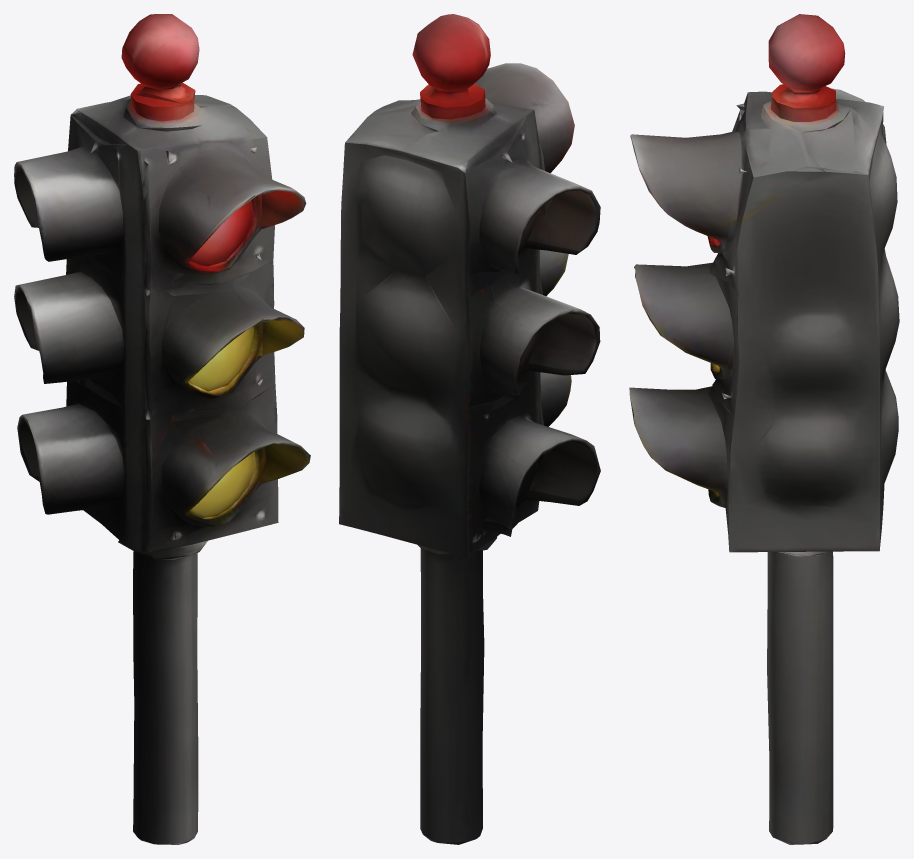
File: trafficLight.glb
3 renders of one model, left to right at view 1: azimuth 30°, elevation 25°; view 2: azimuth 150°, elevation 25°; view 3: azimuth 270°, elevation 25°, orthographic.
Parts seen in each view (by area): view 1: model; view 2: model; view 3: model.
Boxes of the visible parts, <box> form: model: <box>14,14,310,844</box>; model: <box>339,14,600,844</box>; model: <box>629,14,899,844</box>.
Size of the model in its own units: 0.547 by 1.9 by 0.5693.
1 material, 1 textured.
